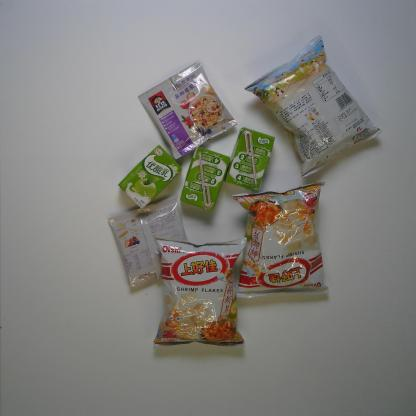Instant Drink: (137, 59, 238, 161), (106, 195, 191, 293)
Milk: (118, 143, 182, 210), (222, 127, 276, 192), (179, 145, 231, 212)
Puffed Food: (244, 32, 382, 180), (231, 182, 330, 300), (151, 234, 247, 351)
